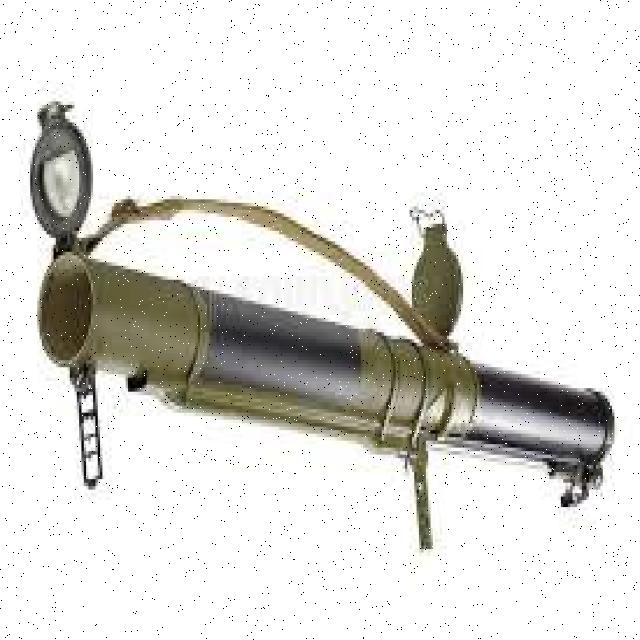bazooka: (24, 78, 617, 545)
